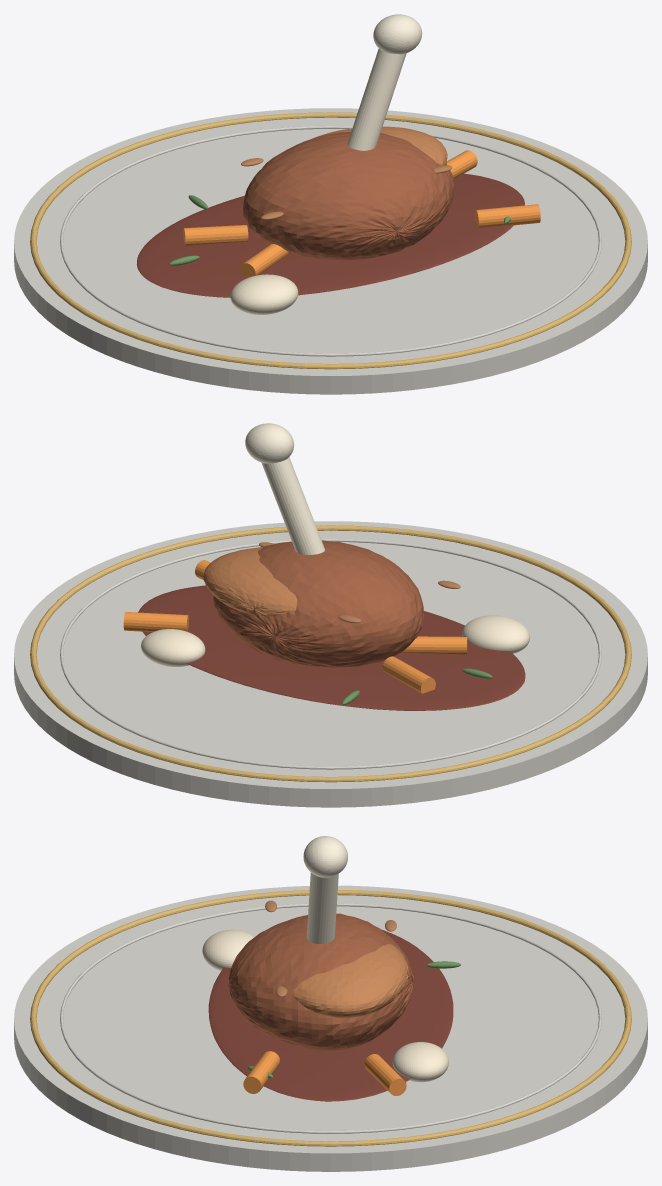
Rendered from braised_lamb_shank.glb.
The picture shows the model from 3 angles, top to bottom: view 1: azimuth 30°, elevation 25°; view 2: azimuth 150°, elevation 25°; view 3: azimuth 270°, elevation 25°; orthographic projection.
Parts seen in each view (by area): view 1: Porcelain plate, Braised lamb shank meat, Red wine reduction, Fine gold plate rim, Inner plate groove, Shank bone, Potato fondant, Bone knuckle, Roasted carrot 3, Roasted carrot 1, Caramelized lamb surface, Roasted carrot 2 (+1 smaller); view 2: Porcelain plate, Braised lamb shank meat, Red wine reduction, Fine gold plate rim, Inner plate groove, Caramelized lamb surface, Shank bone, Potato fondant, Potato fondant 2, Bone knuckle, Roasted carrot 4, Roasted carrot 2 (+1 smaller); view 3: Porcelain plate, Braised lamb shank meat, Red wine reduction, Fine gold plate rim, Caramelized lamb surface, Inner plate groove, Shank bone, Potato fondant 2, Bone knuckle, Potato fondant, Roasted carrot 4, Roasted carrot 3.
Boxes of the visible parts, left/top/right/bottom form: Porcelain plate: left=14, top=108, right=647, bottom=394; Braised lamb shank meat: left=243, top=132, right=454, bottom=259; Red wine reduction: left=137, top=173, right=524, bottom=297; Fine gold plate rim: left=30, top=112, right=631, bottom=369; Inner plate groove: left=60, top=126, right=601, bottom=356; Shank bone: left=347, top=48, right=406, bottom=150; Potato fondant: left=230, top=274, right=298, bottom=314; Bone knuckle: left=373, top=14, right=422, bottom=54; Roasted carrot 3: left=474, top=204, right=540, bottom=227; Roasted carrot 1: left=183, top=225, right=248, bottom=245; Caramelized lamb surface: left=313, top=126, right=447, bottom=165; Roasted carrot 2: left=239, top=244, right=288, bottom=277; Porcelain plate: left=14, top=521, right=647, bottom=807; Braised lamb shank meat: left=213, top=540, right=424, bottom=667; Red wine reduction: left=138, top=585, right=525, bottom=710; Fine gold plate rim: left=30, top=525, right=631, bottom=782; Inner plate groove: left=60, top=539, right=601, bottom=769; Caramelized lamb surface: left=203, top=547, right=297, bottom=616; Shank bone: left=261, top=457, right=324, bottom=554; Potato fondant: left=462, top=615, right=530, bottom=653; Potato fondant 2: left=141, top=629, right=205, bottom=666; Bone knuckle: left=245, top=423, right=294, bottom=463; Roasted carrot 4: left=123, top=612, right=188, bottom=631; Roasted carrot 2: left=403, top=636, right=467, bottom=654; Porcelain plate: left=14, top=885, right=647, bottom=1171; Braised lamb shank meat: left=228, top=913, right=413, bottom=1050; Red wine reduction: left=208, top=929, right=453, bottom=1101; Fine gold plate rim: left=30, top=890, right=631, bottom=1146; Caramelized lamb surface: left=293, top=944, right=408, bottom=1017; Inner plate groove: left=60, top=903, right=601, bottom=1133; Shank bone: left=306, top=872, right=338, bottom=943; Potato fondant 2: left=392, top=1042, right=448, bottom=1082; Bone knuckle: left=303, top=836, right=347, bottom=877; Potato fondant: left=202, top=929, right=254, bottom=970; Roasted carrot 4: left=364, top=1054, right=406, bottom=1095; Roasted carrot 3: left=243, top=1051, right=279, bottom=1093.
Bounding box in the file's own units: 18 × 7.22 × 18.
